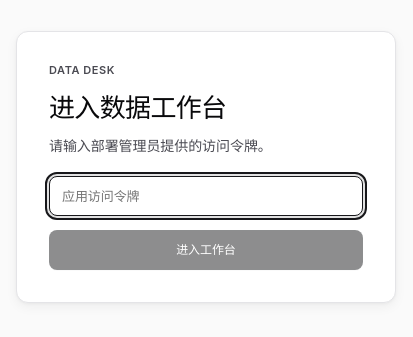
Test: AccessGate 访问门禁 › 服务端判定未认证时删除本地令牌并展示错误
The width and height of the screenshot is (413, 337).
Type "wrong-token" into the password field with placeholder "应用访问令牌" at (206, 196), box 49,176 -> 363,216
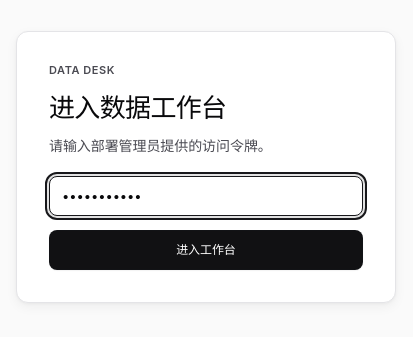
Submit the form "进入工作台"
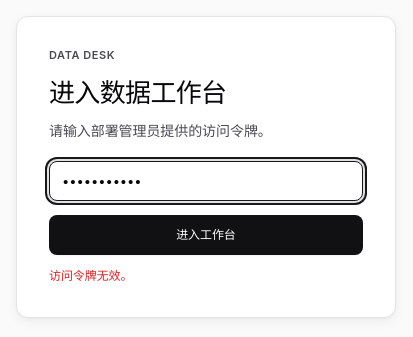
Result: the text "访问令牌无效。" is shown at 49,268 -> 132,283
